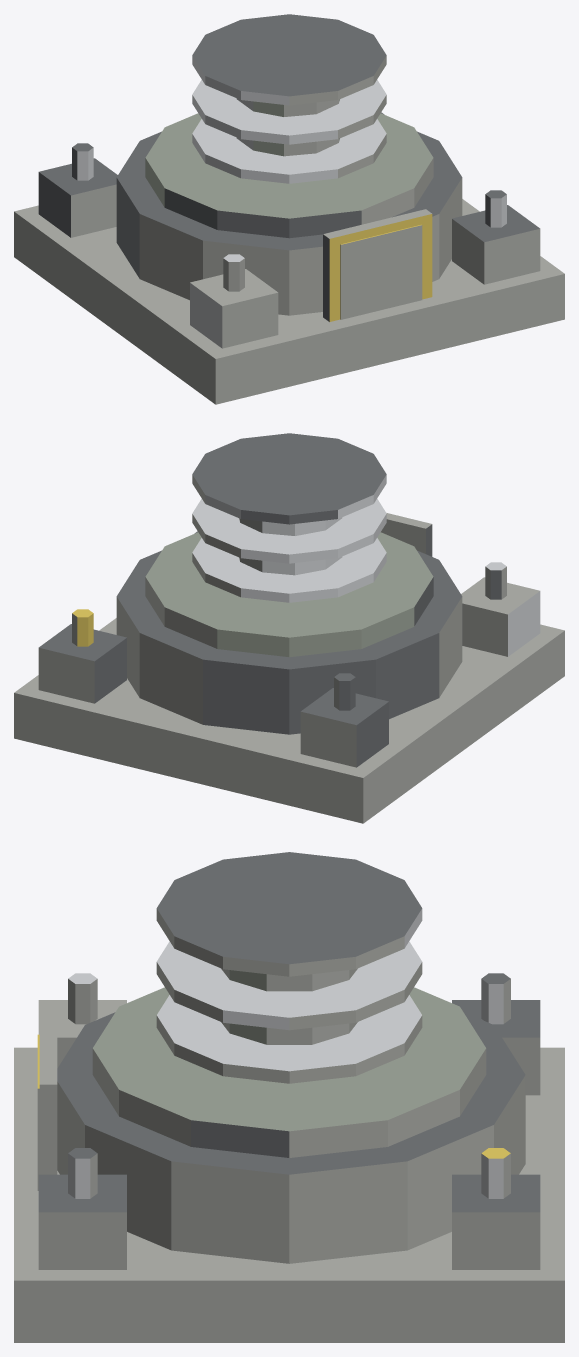
The model's file is exotics_lab.glb.
3 renders of one model, top to bottom at view 1: azimuth 30°, elevation 25°; view 2: azimuth 150°, elevation 25°; view 3: azimuth 270°, elevation 25°, orthographic. The views are drawn at different scales.
Visible parts, largest first — view 1: exotics_lab; view 2: exotics_lab; view 3: exotics_lab.
Boxes of the visible parts, <box> form: exotics_lab: <box>14,14,564,404</box>; exotics_lab: <box>14,433,564,823</box>; exotics_lab: <box>14,852,564,1342</box>.
Size of the model in its own units: 5.6 by 3.57 by 5.6.
